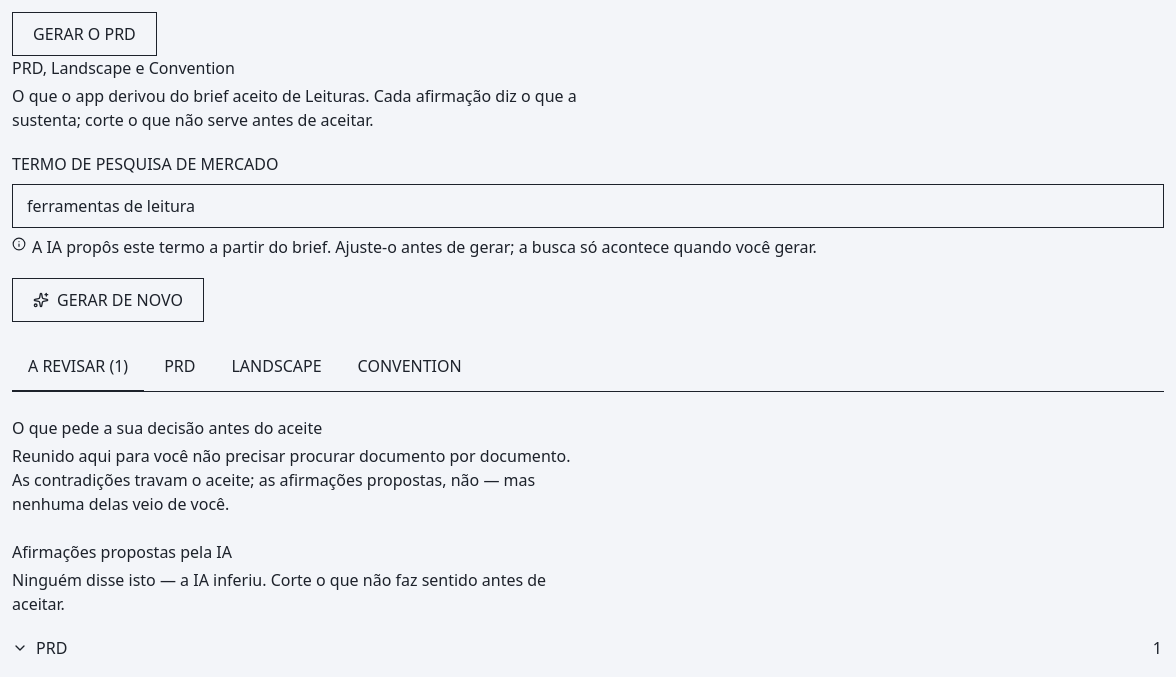
Test: as abas do pacote estrutural (issue #333) › o corte continua ao alcance dentro da aba do documento
Click the tab "PRD" at [180, 367], box [148,342,211,392]
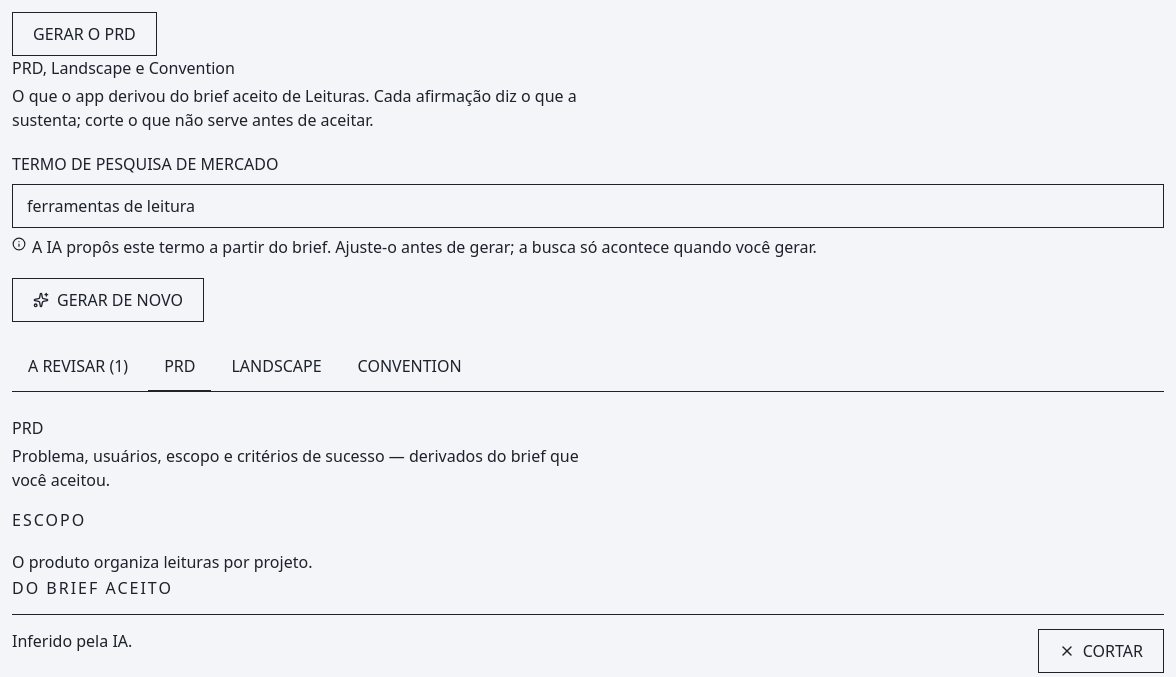
Expected: the button with aria-label "Cortar a afirmação: Inferido" is shown, [1038,629,1164,673]
Result: the text "Inferido pela IA." is shown once at [12,630,132,652]
